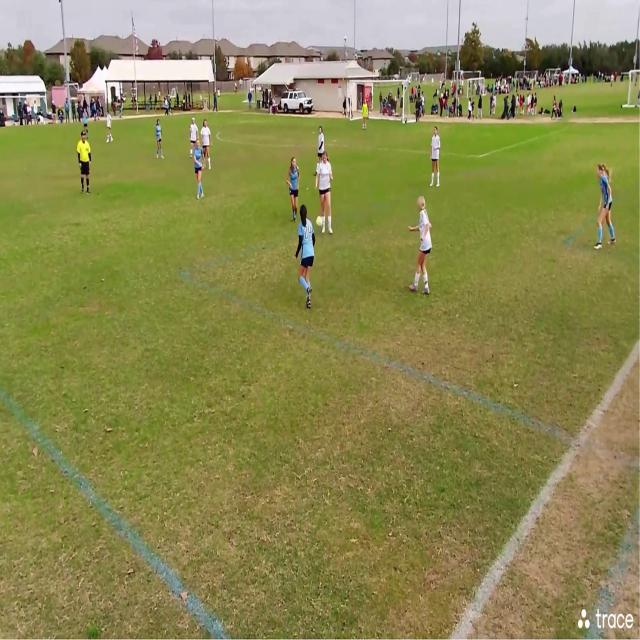ball: (316, 215, 324, 229)
team1: (295, 204, 319, 312), (598, 160, 617, 246), (288, 158, 304, 220), (192, 140, 205, 198), (79, 108, 90, 146), (316, 126, 326, 161), (156, 120, 164, 160)
team2: (411, 200, 437, 297), (316, 153, 335, 234), (432, 127, 444, 189), (202, 119, 214, 171), (190, 117, 200, 158), (105, 112, 114, 144)
